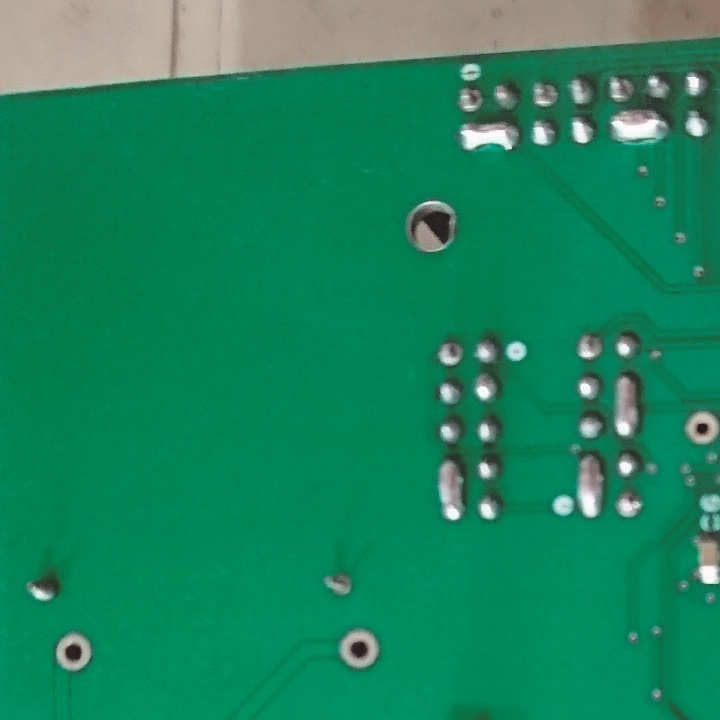F: (336, 626, 382, 669), (53, 631, 96, 673), (681, 409, 719, 447), (611, 490, 644, 520), (530, 78, 558, 109), (576, 331, 602, 363), (436, 338, 464, 366), (606, 74, 633, 103), (324, 572, 353, 599), (455, 85, 484, 110)
P: (455, 118, 521, 153), (608, 107, 668, 145), (576, 451, 604, 521), (436, 458, 465, 523), (616, 373, 640, 438)
